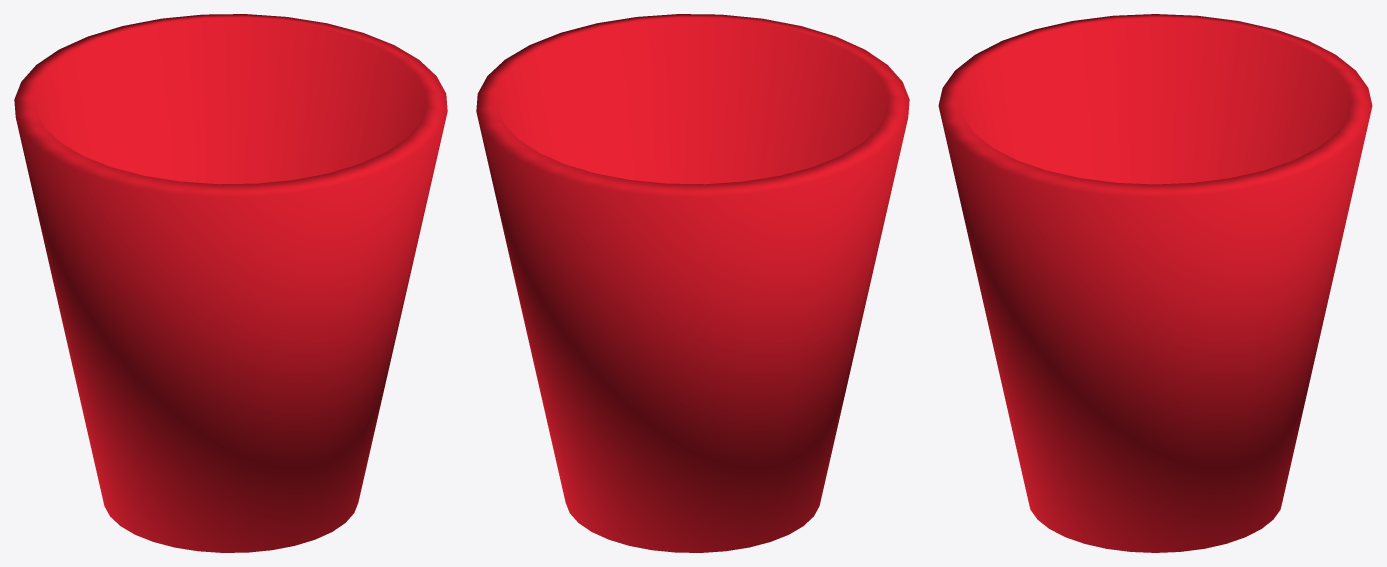
File: plastic_cup_red.fbx
3 views of the same model, side by side, from view 1: azimuth 30°, elevation 25°; view 2: azimuth 150°, elevation 25°; view 3: azimuth 270°, elevation 25° (orthographic).
Visible parts, largest first — view 1: Cylinder; view 2: Cylinder; view 3: Cylinder.
Boxes of the visible parts, x1,y1,x2,y2 form: Cylinder: (14,14,447,552); Cylinder: (476,14,909,552); Cylinder: (938,14,1372,552).
Size of the model in its own units: 46.08 by 46.54 by 46.08.
